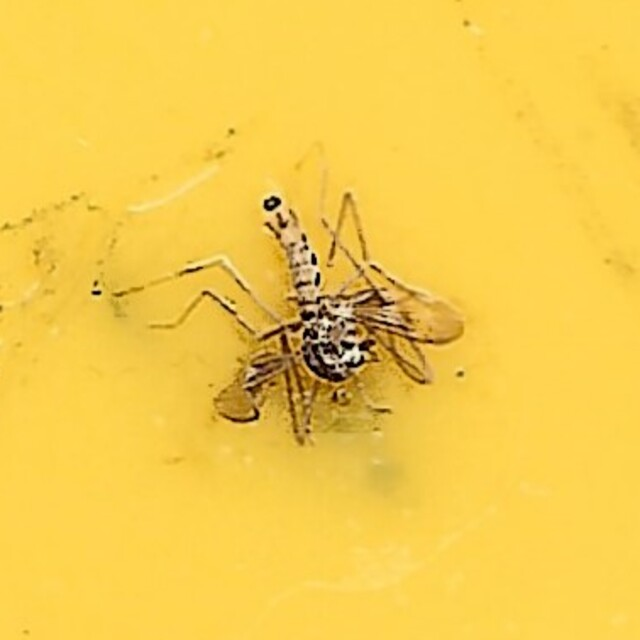Nematocera: (169, 187, 471, 453)
